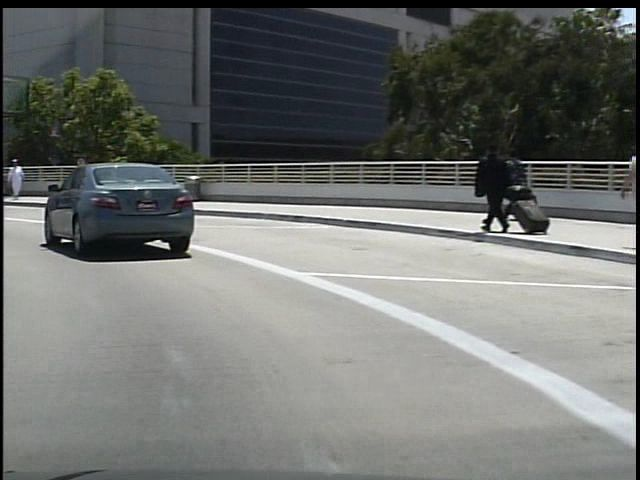person: (469, 138, 510, 231), (494, 146, 527, 226), (7, 155, 25, 199)
